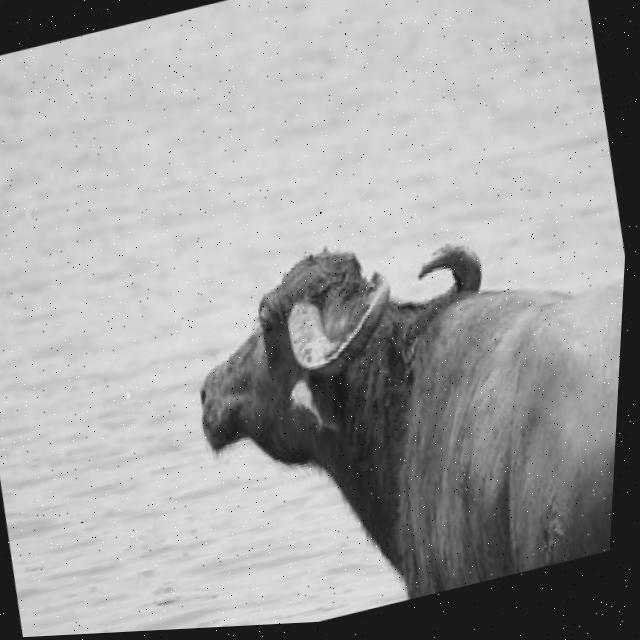Buffalo: (162, 172, 629, 630)
